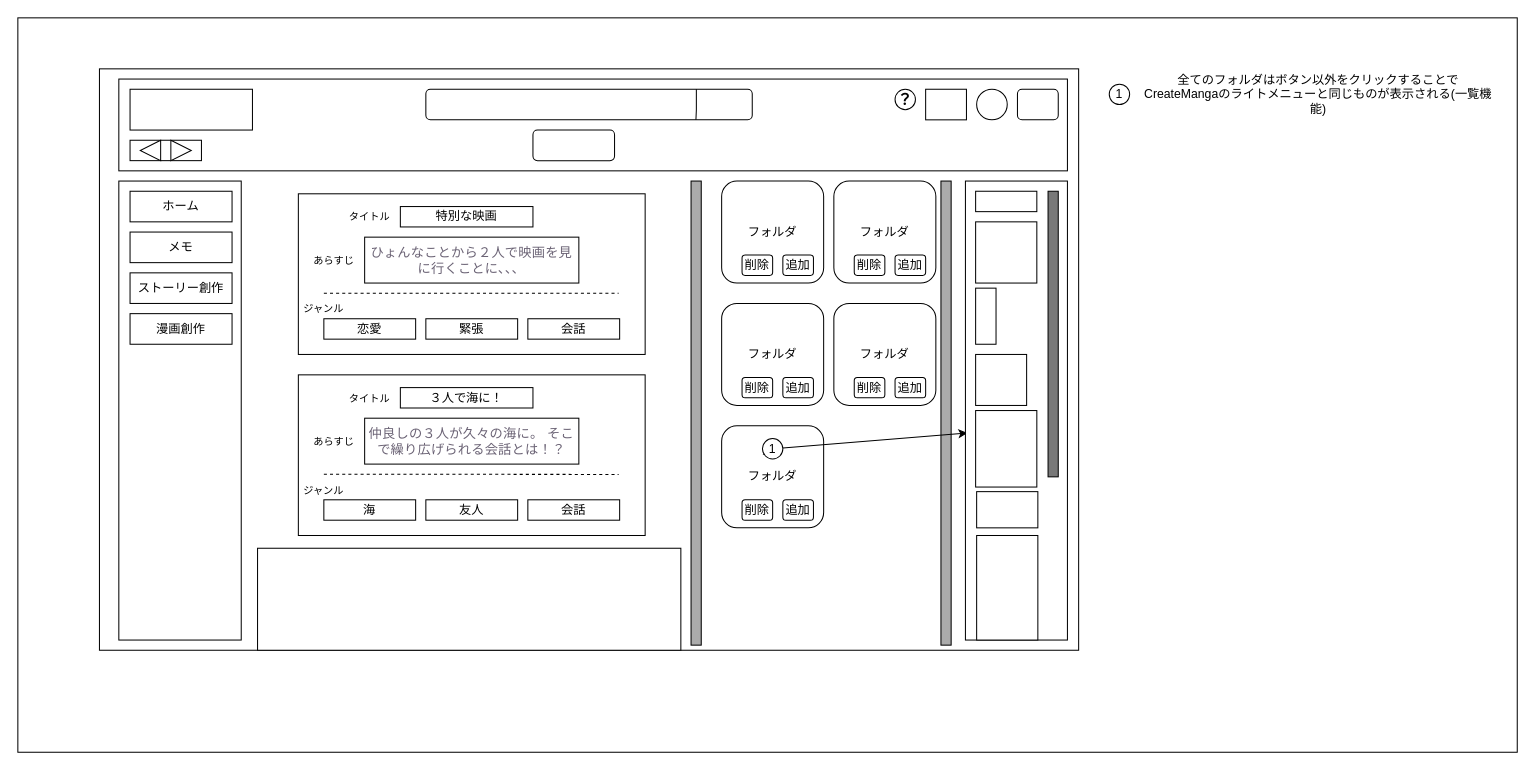
Some shapes in this 1535 by 770 pixel diagram are drawn without their labels. The centre of each missing label's shape, as x and y in pixels:
LOGO: (x=190, y=109)
next -- 次へ --: (x=573, y=145)
アイコン: (x=991, y=104)
ログアウト: (x=1037, y=104)
設定: (x=945, y=104)
